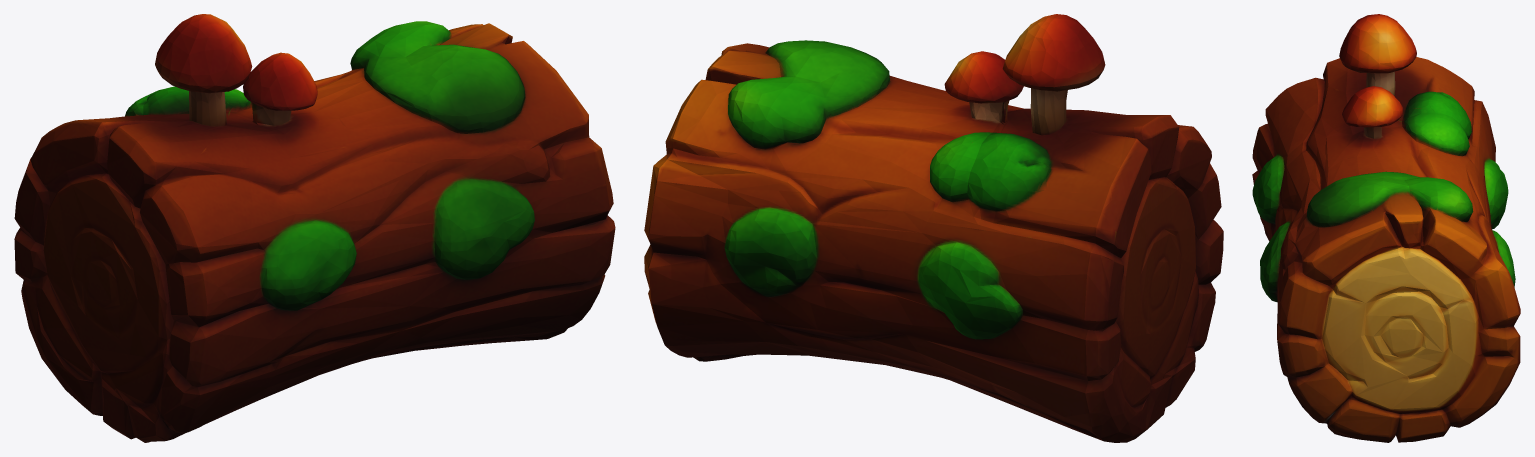
File: forest_log.glb
The picture shows the model from 3 angles, left to right: view 1: azimuth 30°, elevation 25°; view 2: azimuth 150°, elevation 25°; view 3: azimuth 270°, elevation 25°; orthographic projection. The views are drawn at different scales.
Visible parts, largest first — view 1: world; view 2: world; view 3: world.
Part boxes in pixels (x1=…): world: x1=14, y1=14, x2=615, y2=442; world: x1=644, y1=14, x2=1223, y2=442; world: x1=1252, y1=14, x2=1520, y2=442.
Size of the model in its own units: 0.8309 by 0.6594 by 0.5232.
1 material, 1 textured.
